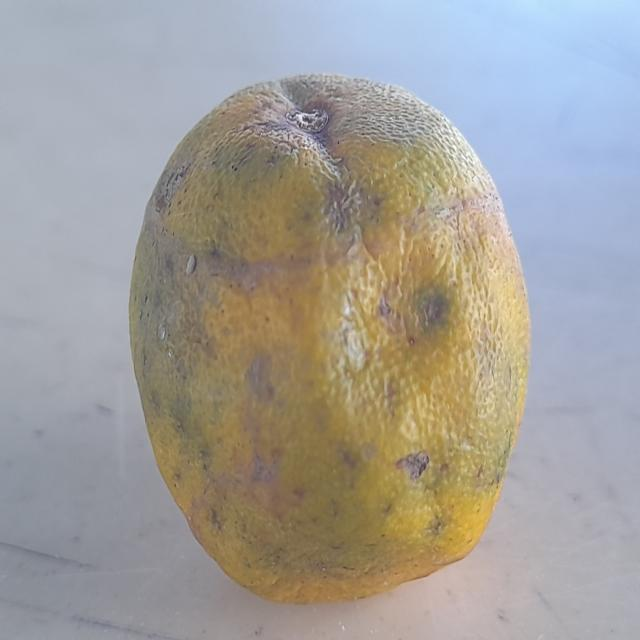black spot: (128, 75, 520, 598)
